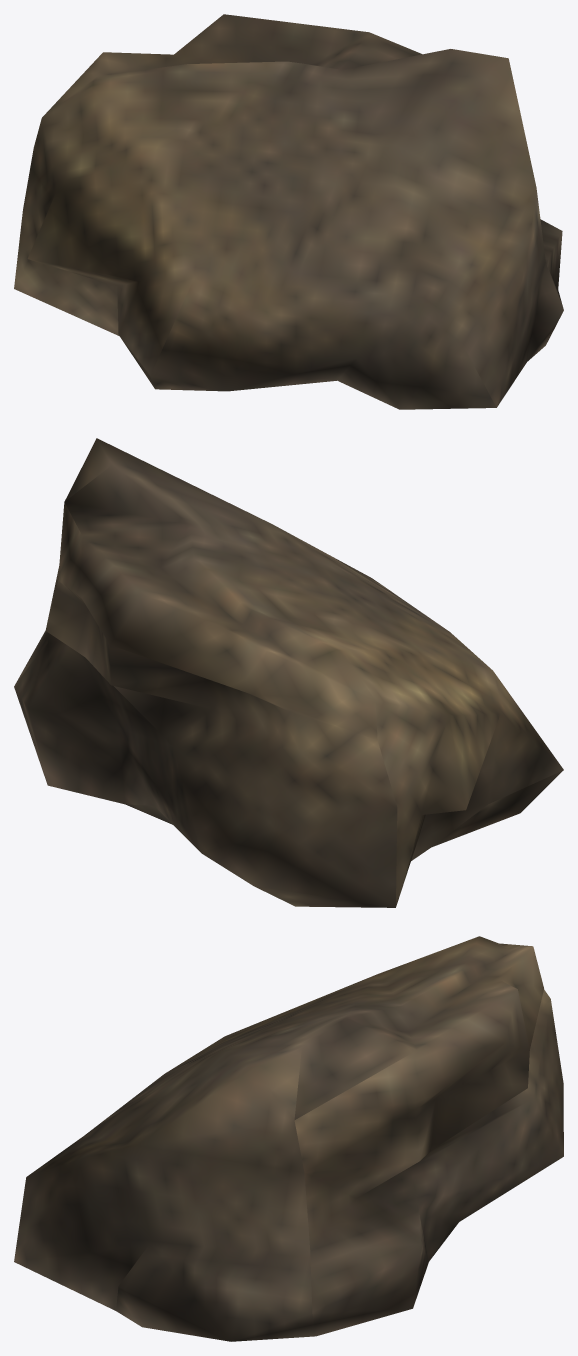
The model's file is Rock01_08.FBX.
3 renders of one model, top to bottom at view 1: azimuth 30°, elevation 25°; view 2: azimuth 150°, elevation 25°; view 3: azimuth 270°, elevation 25°, orthographic. The views are drawn at different scales.
Visible parts, largest first — view 1: Rock01_08; view 2: Rock01_08; view 3: Rock01_08.
Boxes of the visible parts, x1,y1,x2,y2 form: Rock01_08: [14, 14, 563, 409]; Rock01_08: [14, 438, 563, 907]; Rock01_08: [14, 936, 563, 1341].
Bounding box in the file's own units: 301 × 161 × 296.
1 material, 1 textured.
